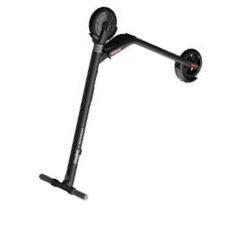scooter: (38, 7, 202, 201)
